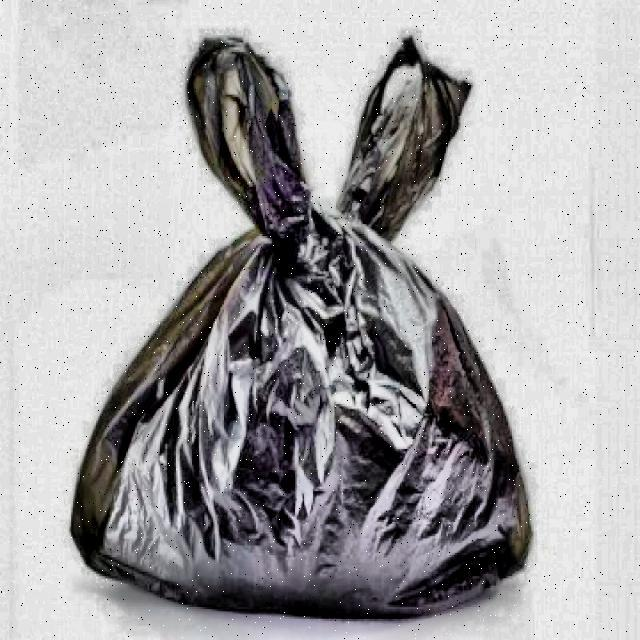Trashbag: (60, 31, 539, 624)
